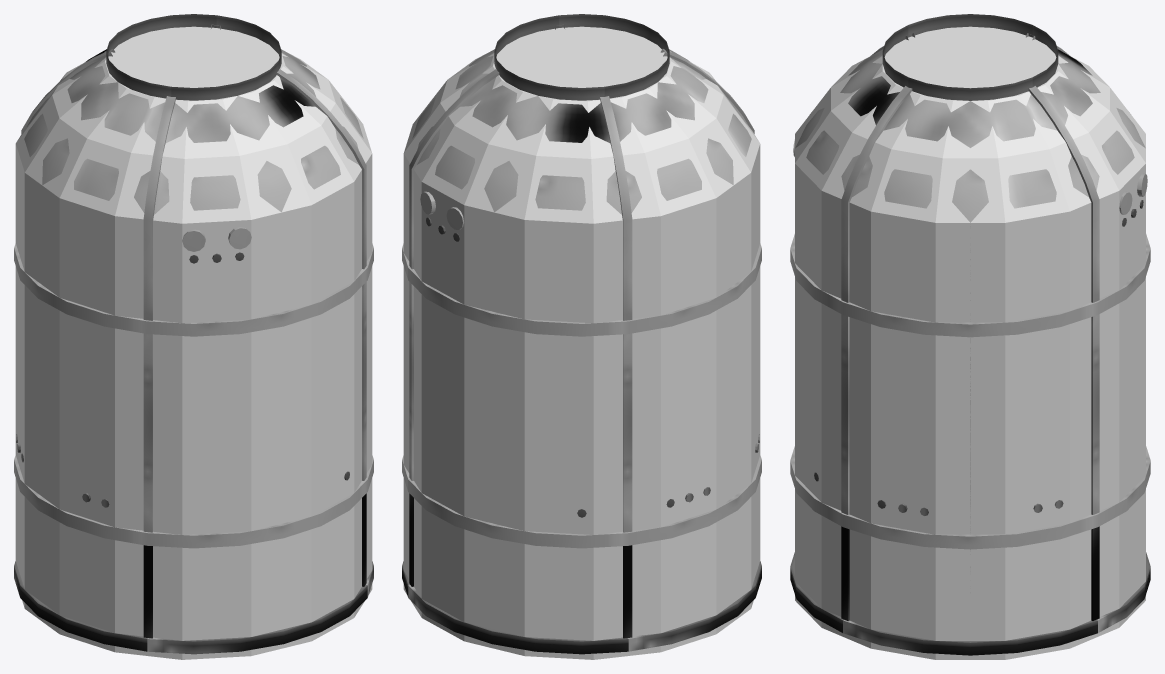
The model's file is working_fluid.fbx.
The picture shows the model from 3 angles, left to right: view 1: azimuth 30°, elevation 25°; view 2: azimuth 150°, elevation 25°; view 3: azimuth 270°, elevation 25°; orthographic projection.
Parts seen in each view (by area): view 1: c_1, mesh; view 2: c_1, mesh; view 3: c_1, mesh.
Part boxes in pixels (<box>): c_1: <box>15,26,372,659</box>; mesh: <box>14,14,373,654</box>; c_1: <box>403,26,760,659</box>; mesh: <box>402,14,761,654</box>; c_1: <box>795,26,1145,659</box>; mesh: <box>790,14,1150,655</box>.
Size of the model in its own units: 1.92 by 3.15 by 1.93.
